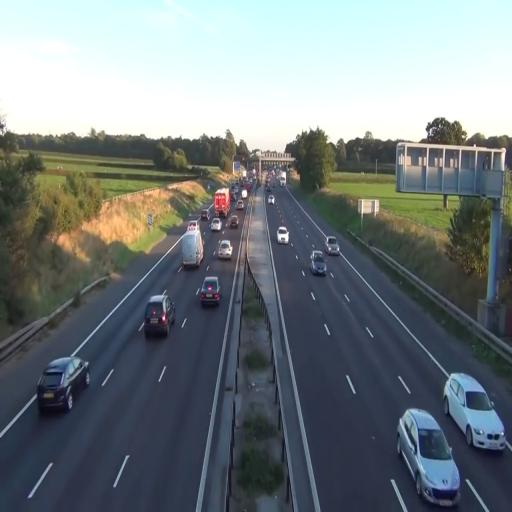vehicle: (397, 408, 461, 506), (444, 370, 506, 452), (37, 356, 89, 414), (143, 293, 172, 339), (180, 228, 204, 270), (154, 292, 176, 334), (199, 276, 221, 308), (214, 188, 230, 217), (311, 250, 327, 275), (217, 238, 233, 259), (324, 238, 340, 256), (210, 214, 224, 232), (277, 224, 289, 244)
